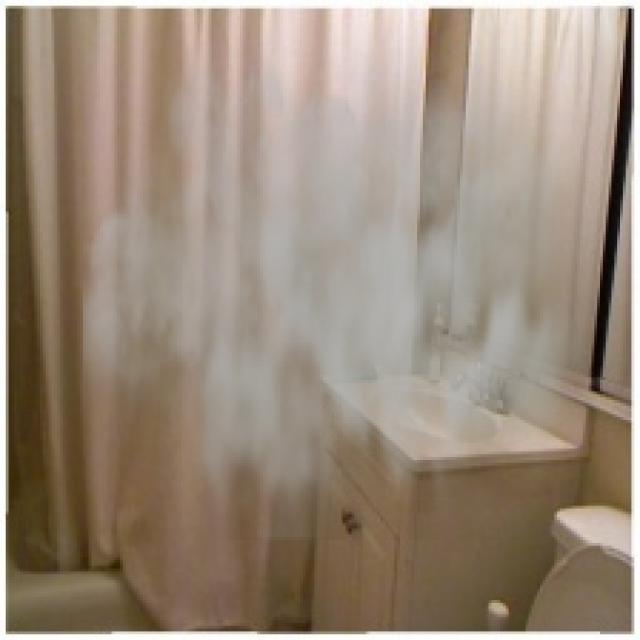smoke: (83, 0, 608, 540)
